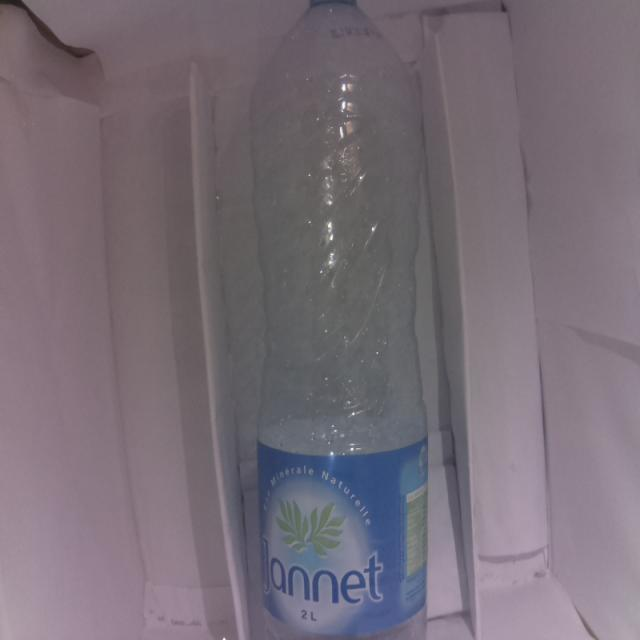Anorganik: (243, 0, 434, 640)
